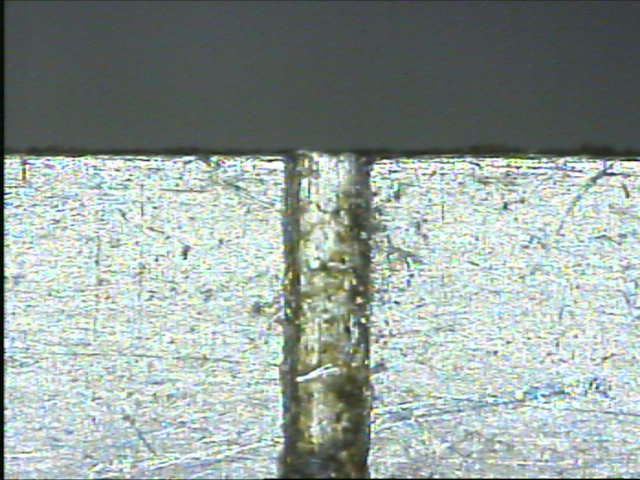line: (276, 154, 377, 475)
